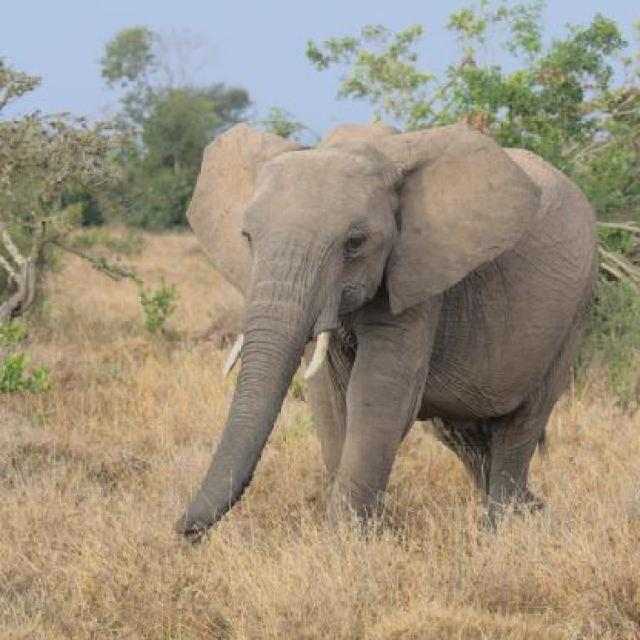Elephant: (169, 118, 606, 548)
